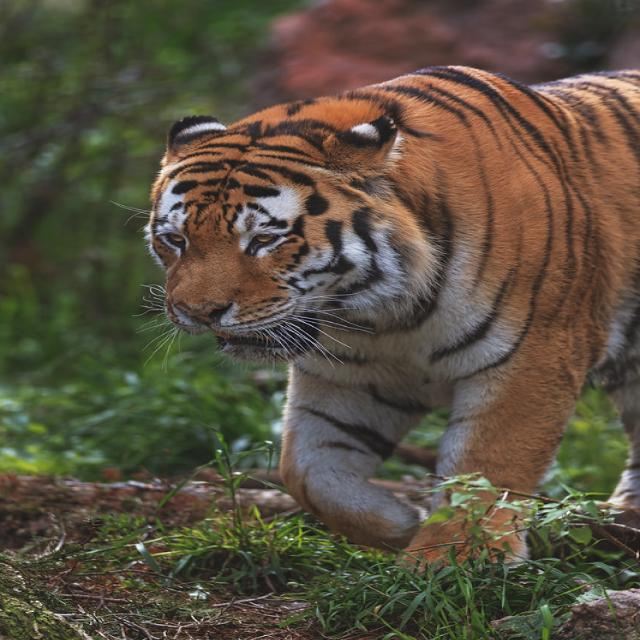Tiger: (139, 63, 639, 577)
